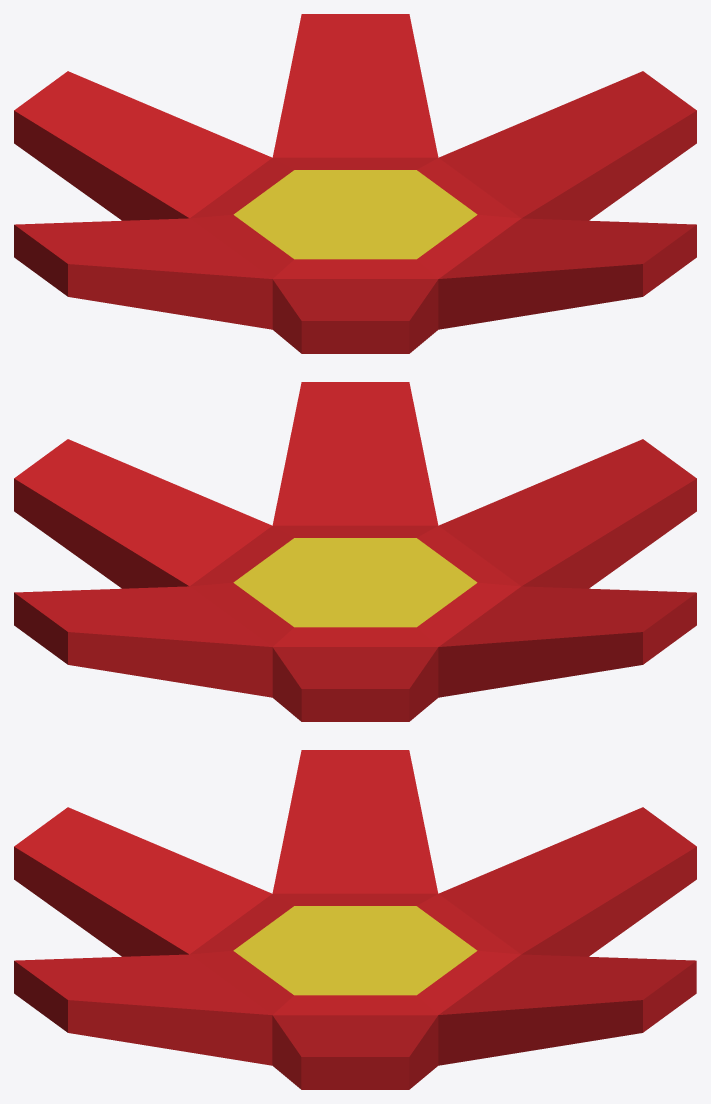
Rendered from Flower(Red).fbx.
3 renders of one model, top to bottom at view 1: azimuth 30°, elevation 25°; view 2: azimuth 150°, elevation 25°; view 3: azimuth 270°, elevation 25°, orthographic.
Parts seen in each view (by area): view 1: Cylinder; view 2: Cylinder; view 3: Cylinder.
Boxes of the visible parts, box(x1,y1,x2,y2) form: Cylinder: box(14, 14, 696, 353); Cylinder: box(14, 382, 696, 721); Cylinder: box(14, 750, 696, 1089).
Size of the model in its own units: 165 by 25.53 by 156.
